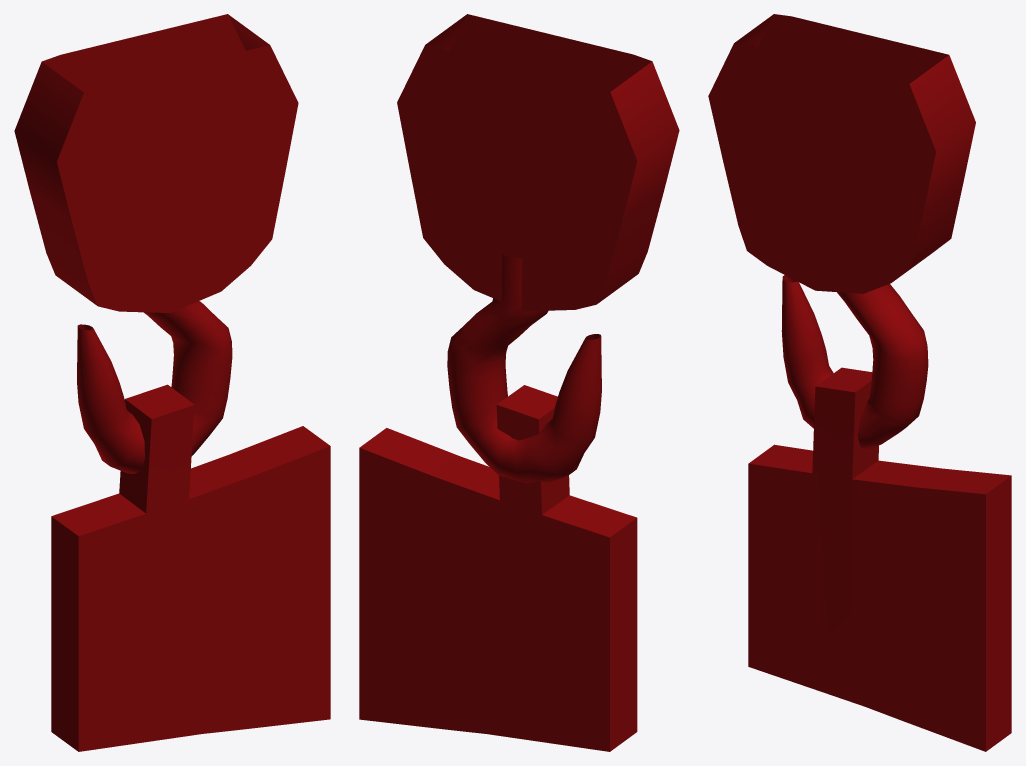
File: hook01.obj
3 renders of one model, left to right at view 1: azimuth 30°, elevation 25°; view 2: azimuth 150°, elevation 25°; view 3: azimuth 330°, elevation 25°, orthographic. The views are drawn at different scales.
Visible parts, largest first — view 1: default; view 2: default; view 3: default.
Boxes of the visible parts, box(x1,y1,x2,y2) form: default: box(14, 14, 330, 751); default: box(359, 14, 679, 751); default: box(708, 14, 1011, 751).
Size of the model in its own units: 1.38 by 3.24 by 0.3732.
